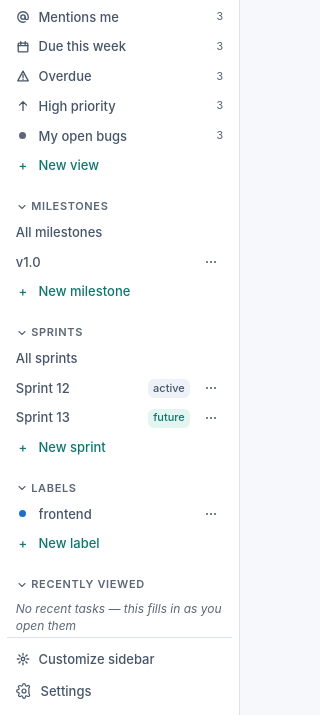
Test: Sidebar › collapses a section on toggle and persists it to localStorage (U22)
(page scrolled)
Expected: the text "frontend" is shown, [38,504,92,523]
Click the button with test id "sidebar-section-toggle-labels" at (120, 487), box [7,475,232,498]
(page scrolled)
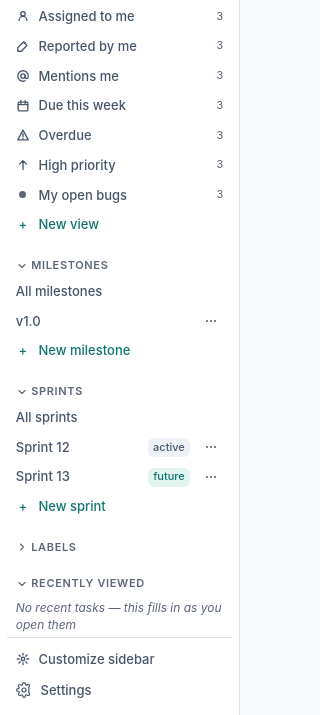
Result: the link "frontend" is gone
Result: the button with test id "sidebar-section-toggle-labels" is collapsed at [7,534,232,557]
